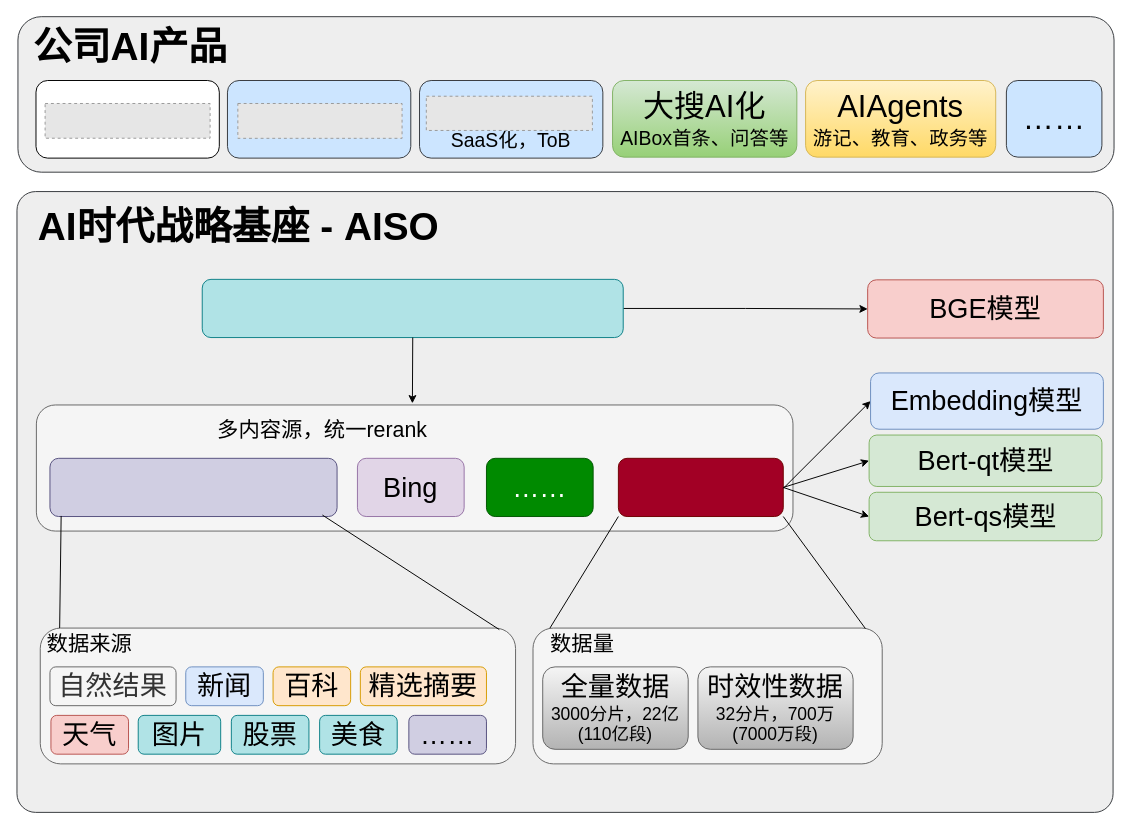
Image size: 1131x830. Some labels were removed from this diagram. Grey dashed boxes stand in for pictures. Each missing label, with the centre of its shape:
Rerank (AI Searcher) ( 原Query +5拆词 并行调用 ): (412,308)
大搜、新闻、Box: (193,487)
精品库引擎: (700,487)
